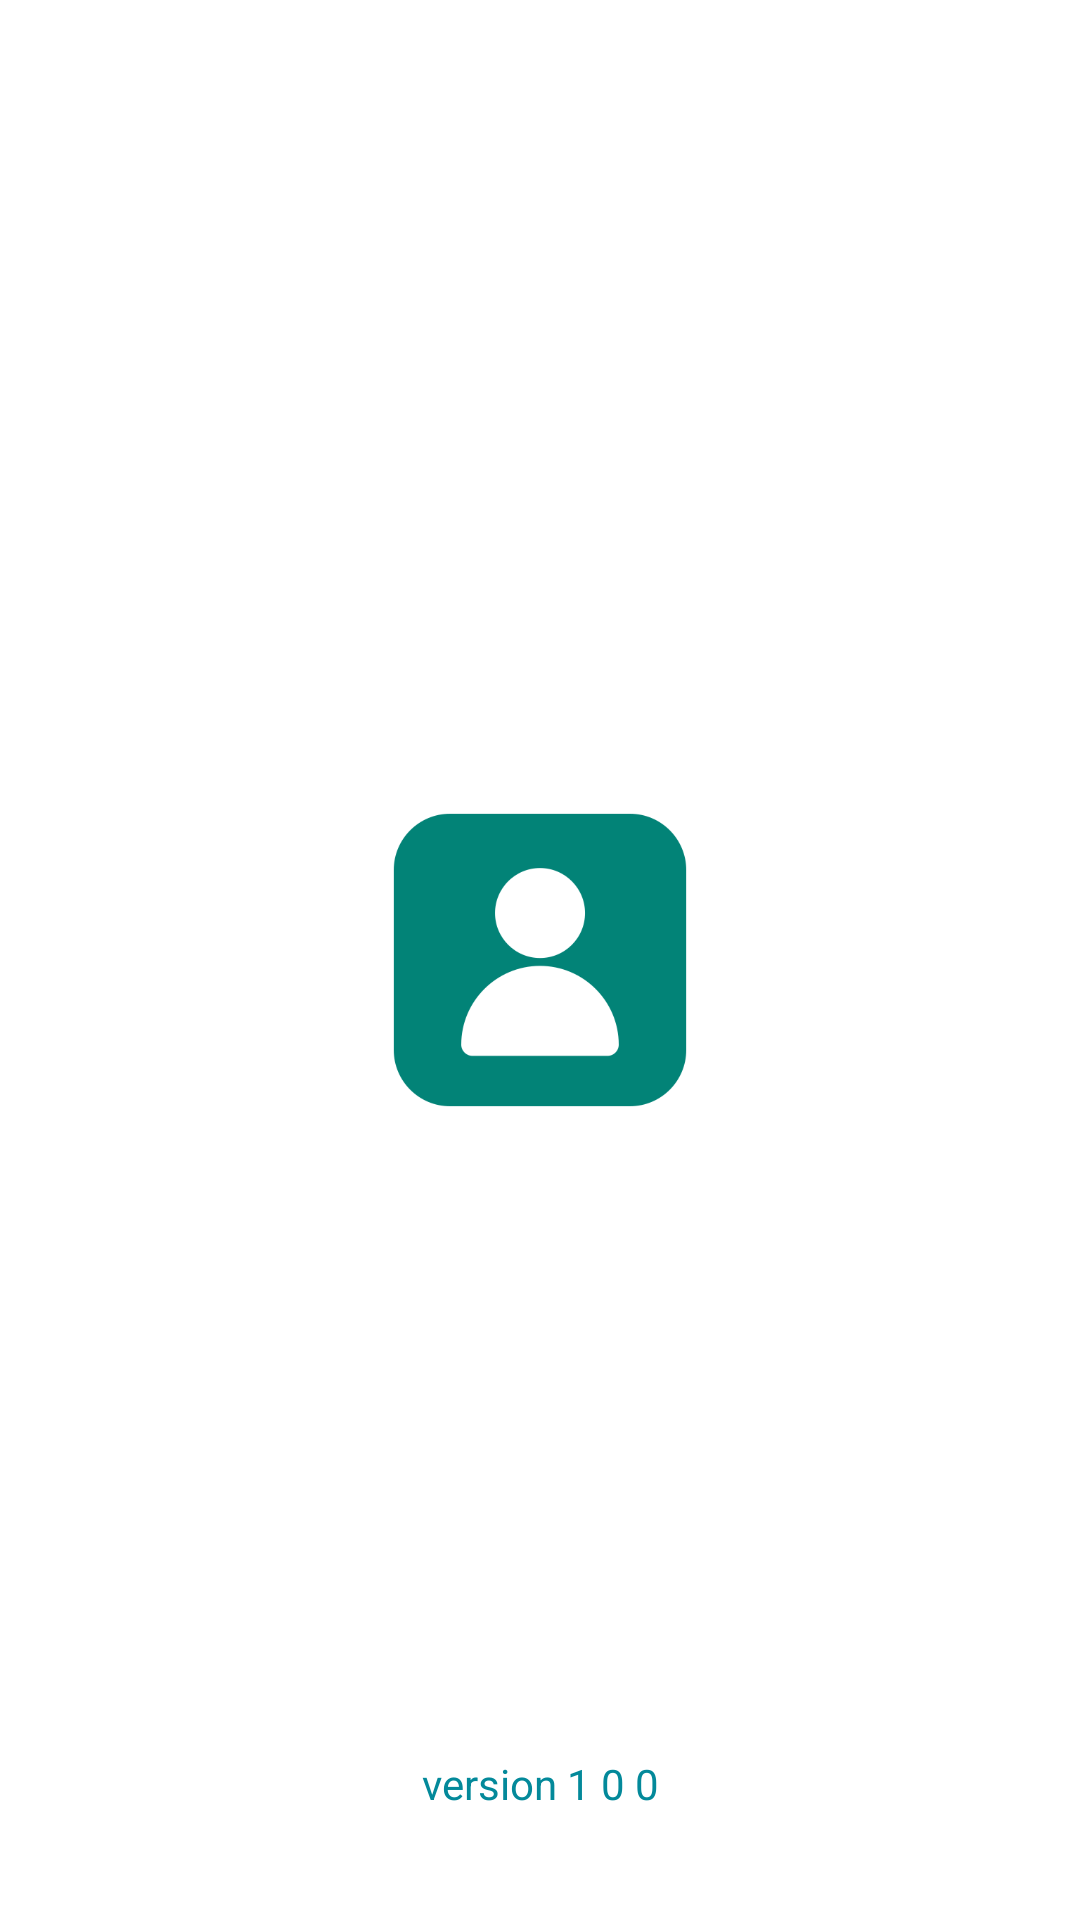

Icon bounding boxes for this 1080 x 1920 phone screenshot, format (x1, y1, x2, y2):
contact: (393, 813, 687, 1107)
